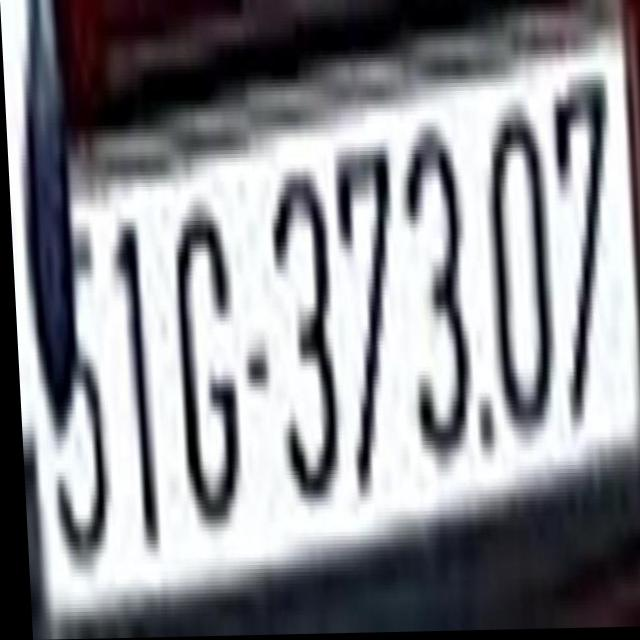0: (484, 111, 556, 442)
1: (107, 211, 156, 549)
3: (267, 165, 339, 523), (396, 139, 468, 482)
5: (34, 216, 105, 586)
7: (547, 90, 625, 437), (329, 152, 397, 483)
G: (166, 202, 240, 517)
